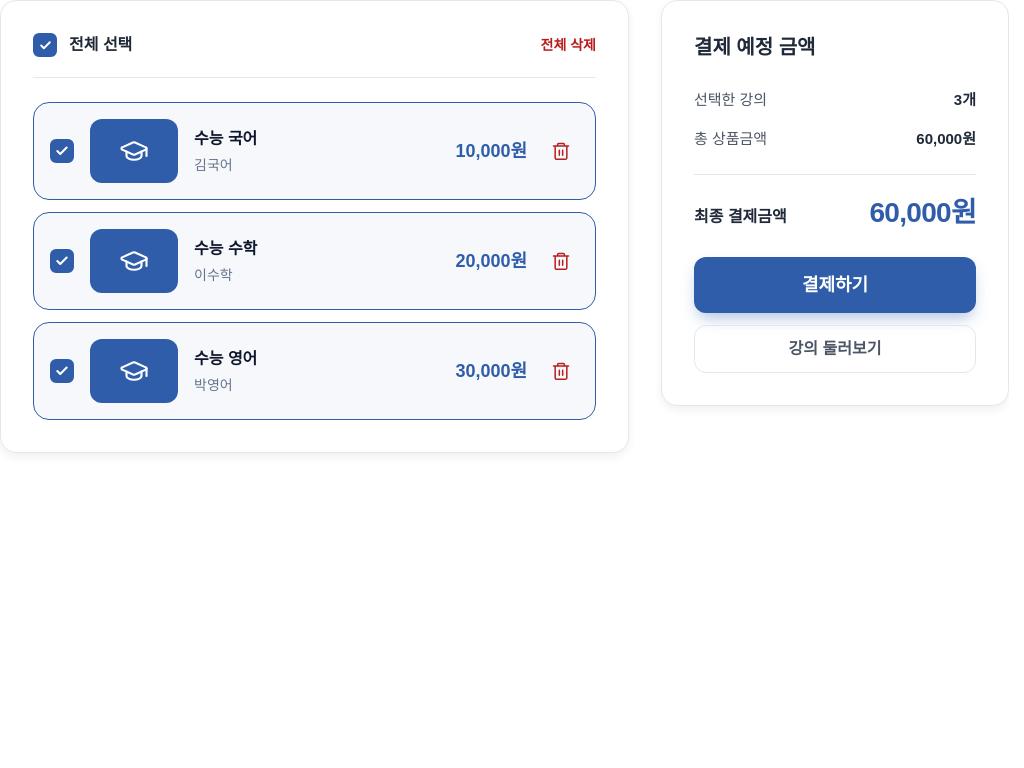
it: CartClient — 장바구니 통합 › 개별 삭제 → 확인 모달 → 액션 호출 → optimistic 제거 › 삭제된 항목이 선택 합계에서 빠진다
Click the button named "수능 국어 삭제".
click(561, 151)  # box [543, 133, 579, 169]
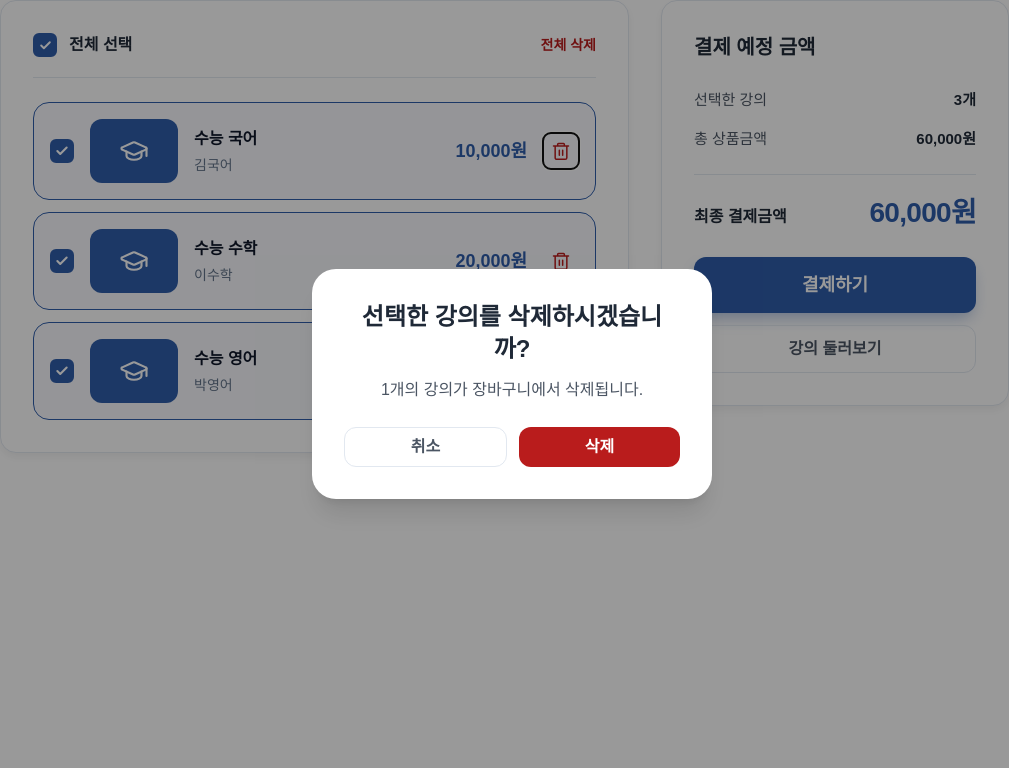
Click the button "삭제".
click(600, 447)  # box [519, 427, 680, 467]
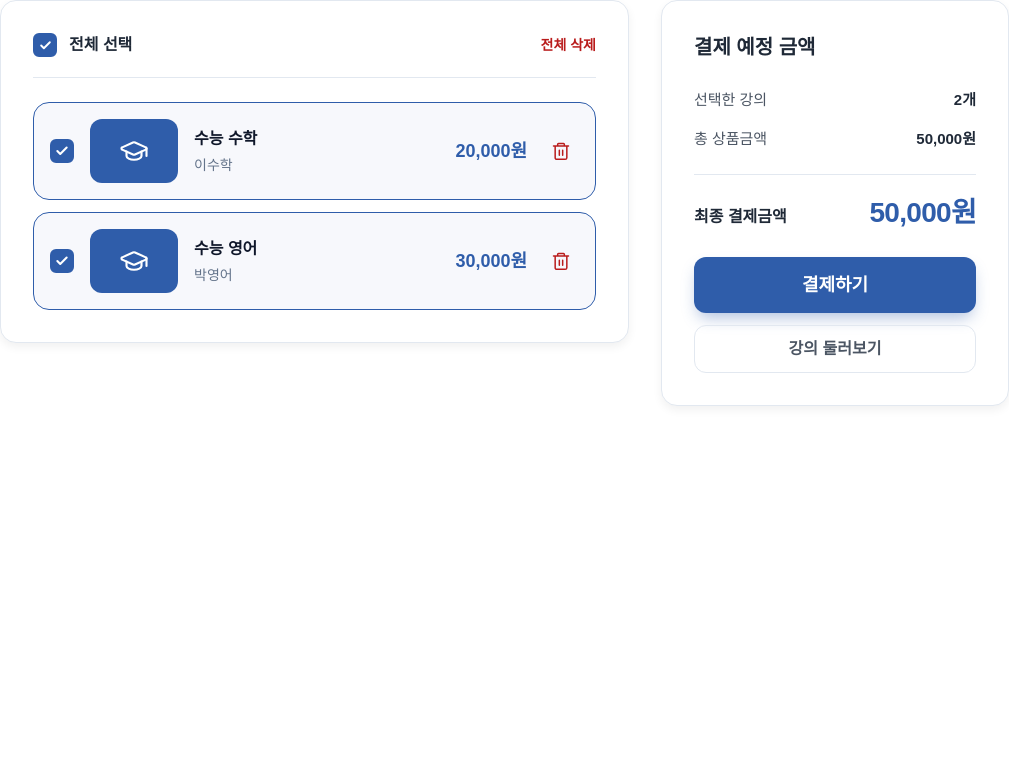
expect the text "50,000원" is shown 2 times: met, box [916, 128, 976, 150]; [870, 199, 976, 227]
expect the text "2개" is shown: met, box [954, 89, 976, 112]
